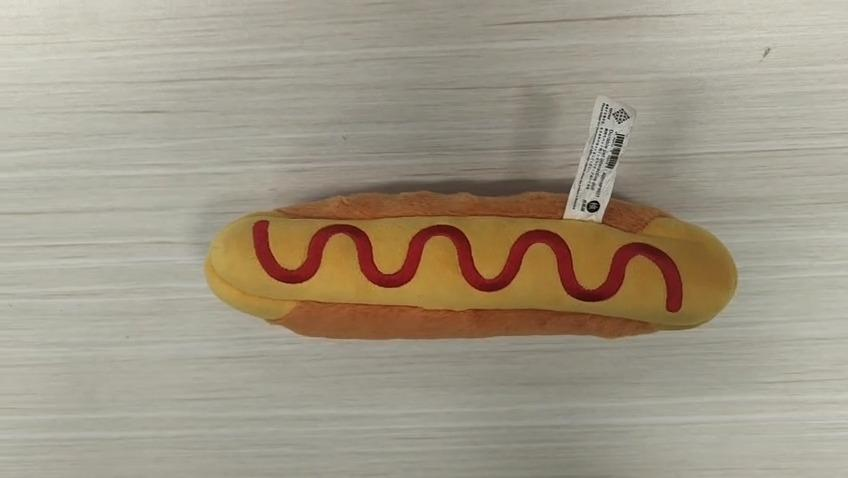hotdog: (203, 188, 738, 340)
